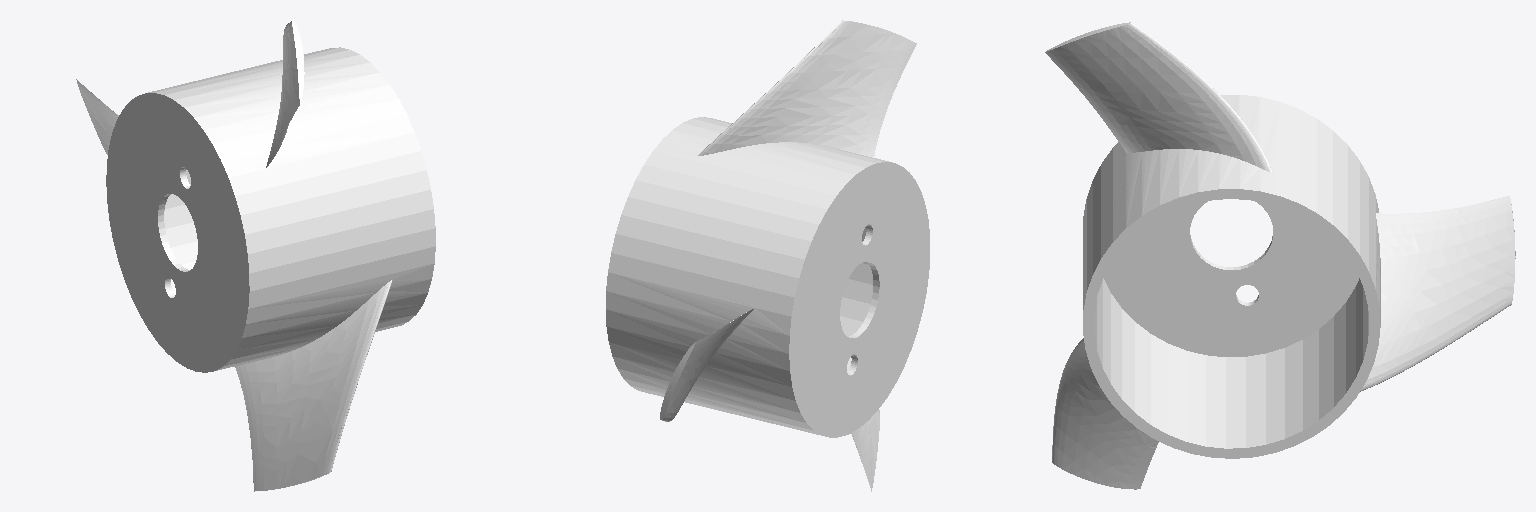
URDF robot description (thruster):
<?xml version="1.0"?>
<robot name="thruster">
    <material name="black">
        <color rgba="0.2 0.2 0.2 1"/>
    </material>
    <material name="grey">
        <color rgba="0.75 0.75 0.75 1"/>
    </material>
    <material name="white">
        <color rgba="1 1 1 1"/>
    </material>
    <material name="blue">
        <color rgba="0.2 0.2 1 1"/>
    </material>
    <link name="base_link">
        <visual>
            <geometry>
                <mesh filename="package://propeller_description/meshes/thruster_body.stl"/>
            </geometry>
            <material name="blue"/>
            <origin xyz="0 0 0" rpy="0 0 0"/>
        </visual>
        <collision>
            <geometry>
                <cylinder length="0.1127" radius="0.05"/>
            </geometry>
            <material name="blue"/>
            <origin xyz="0.01105 0 0" rpy="0 1.5708 0"/>
        </collision>
    </link>

    <link name="propeller">
        <visual>
            <geometry>
                <mesh filename="package://propeller_description/meshes/propeller.stl"/>
            </geometry>
            <material name="white"/>
        </visual>
        <collision>
            <geometry>
                <mesh filename="package://propeller_description/meshes/propeller.stl"/>
            </geometry>
        </collision>
    </link>
    <joint name="propeller_joint" type="continuous">
        <axis xyz="1 0 0"/>
        <parent link="base_link"/>
        <child link="propeller"/>
        <origin xyz="0 0 0" rpy="0 0 0"/>
    </joint>
</robot>

--- Facts derived from the render (not from the file) ---
Views: 3 orthographic renders of the robot side by side, from view 1: azimuth 30°, elevation 25°; view 2: azimuth 150°, elevation 25°; view 3: azimuth 270°, elevation 25°.
Robot: thruster — 2 links, 1 joints (1 continuous); root link base_link; default pose: every joint at zero.
Visible links, largest first — view 1: propeller; view 2: propeller; view 3: propeller.
Boxes of the visible links, x1=… form: propeller: x1=76, y1=21, x2=435, y2=491; propeller: x1=606, y1=20, x2=929, y2=491; propeller: x1=1045, y1=22, x2=1515, y2=489.
Size in the robot's own frame: 0.03 by 0.0632 by 0.0717 metres.
Meshes: 2 distinct files referenced, 1 mesh visuals loaded (1 binary STL); not drawn: 1 (reference not matched to a file when rendering).